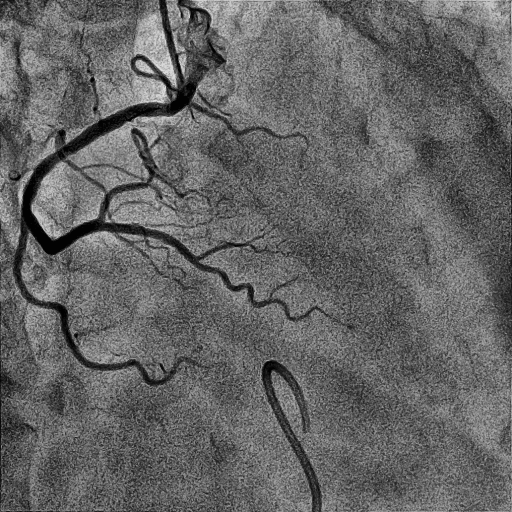pborca: (97, 182, 148, 221)
pda: (104, 222, 354, 329)
rca: (22, 93, 190, 255)
